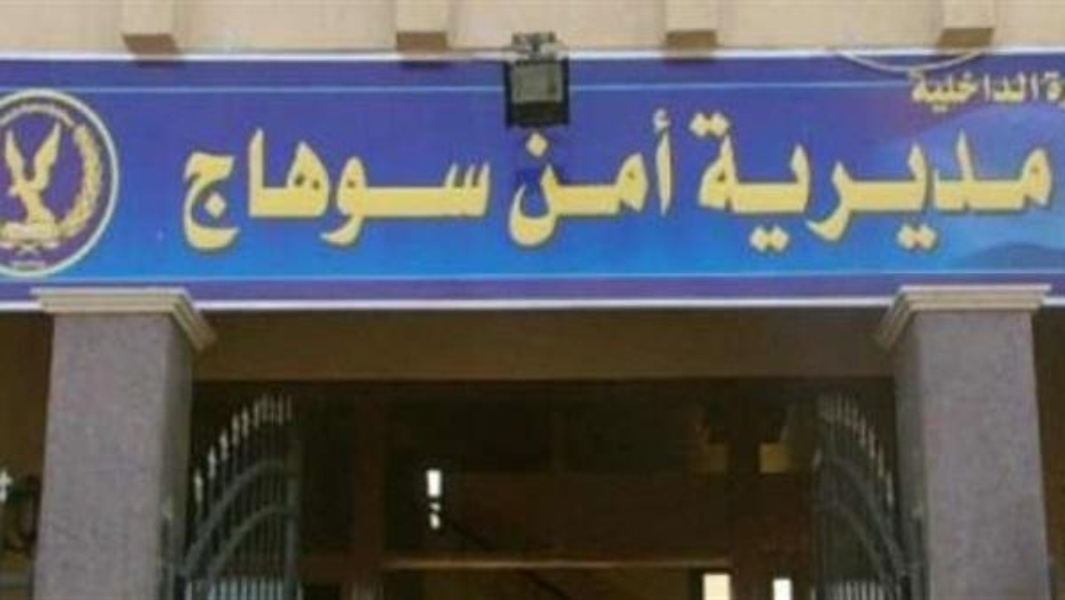text: (529, 105, 544, 253), (545, 105, 560, 253), (561, 105, 576, 253), (577, 105, 592, 253), (593, 105, 608, 253), (609, 105, 624, 253), (625, 105, 640, 253), (641, 105, 656, 253), (657, 105, 672, 253), (689, 107, 704, 253), (705, 107, 720, 253), (721, 107, 736, 253), (737, 107, 752, 253), (753, 107, 768, 253), (769, 107, 784, 253), (785, 107, 800, 253), (801, 107, 816, 253), (817, 107, 832, 253), (833, 107, 848, 253), (849, 107, 864, 253), (865, 107, 880, 253), (881, 107, 896, 253), (897, 107, 912, 253), (913, 107, 928, 253), (929, 107, 944, 253), (945, 107, 960, 253), (961, 107, 976, 253), (977, 107, 992, 253), (993, 107, 1008, 253), (1009, 107, 1024, 253), (1025, 107, 1040, 253), (1041, 107, 1055, 253), (193, 119, 208, 254), (209, 119, 224, 254), (225, 119, 240, 254), (241, 119, 256, 254), (257, 119, 272, 254), (273, 119, 288, 254), (289, 119, 304, 254), (305, 119, 320, 254), (321, 119, 336, 254), (337, 119, 352, 254), (353, 119, 368, 254), (369, 119, 384, 254), (385, 119, 400, 254), (401, 119, 416, 254), (417, 119, 432, 254), (433, 119, 448, 254), (449, 119, 464, 254), (465, 119, 480, 254), (481, 119, 494, 254), (182, 119, 192, 254), (522, 105, 528, 253), (913, 66, 928, 114), (929, 66, 944, 114), (945, 66, 960, 114), (961, 66, 976, 114), (977, 66, 992, 114), (993, 66, 1008, 114), (1009, 66, 1024, 114), (1025, 66, 1040, 114), (1044, 61, 1056, 111), (673, 105, 675, 253), (1057, 61, 1062, 111), (687, 107, 688, 253), (909, 66, 912, 114), (1041, 66, 1042, 114)
